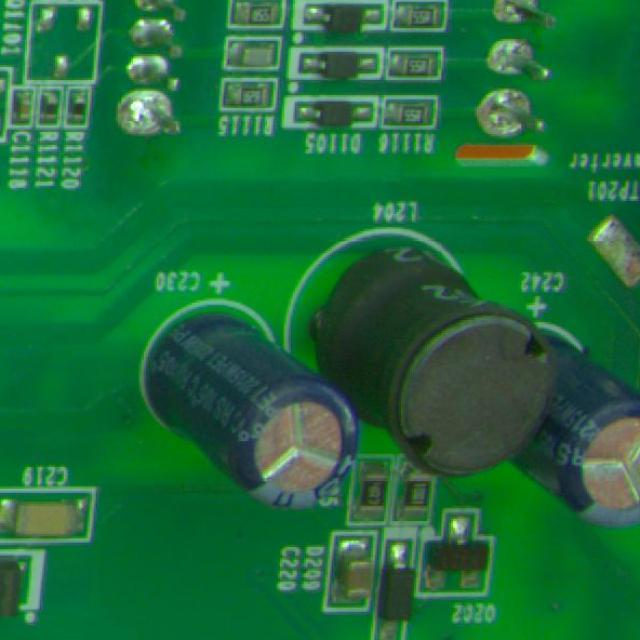Insufficient solder: (482, 90, 529, 146), (483, 37, 543, 77), (478, 0, 552, 32), (121, 88, 170, 136)
